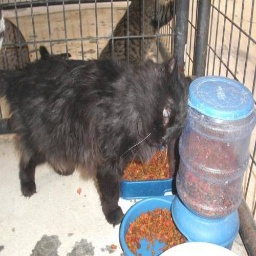cat: (10, 42, 189, 228)
